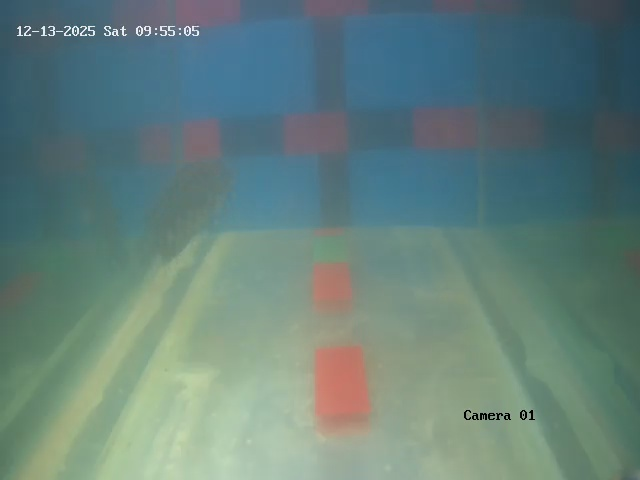fish: (137, 144, 265, 271)
